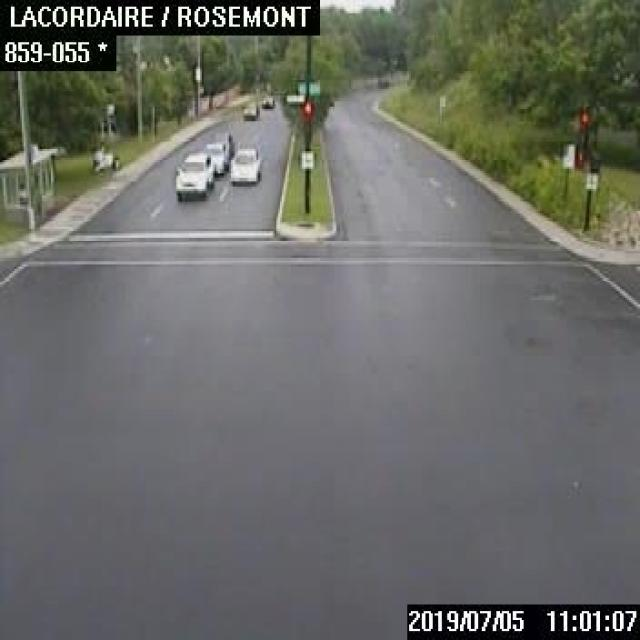vehicle: (173, 151, 214, 197), (228, 147, 260, 183), (203, 141, 225, 173), (213, 132, 232, 156), (242, 101, 258, 117), (260, 95, 273, 106)
